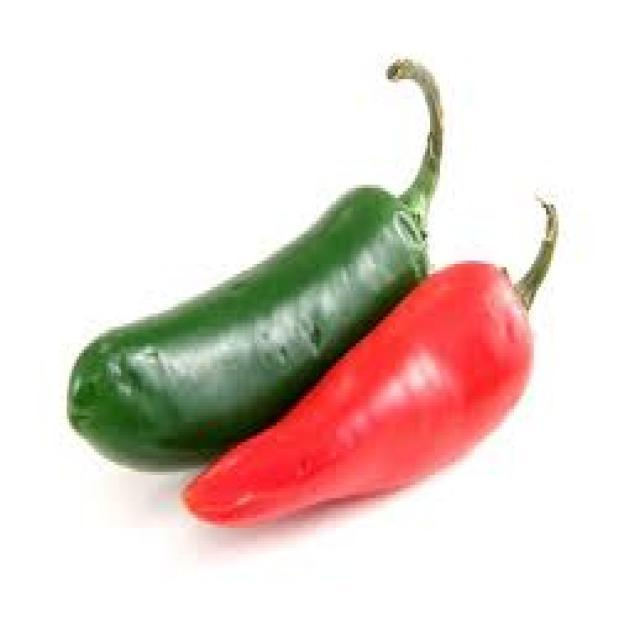Chili: (47, 36, 452, 485), (186, 185, 574, 528)
